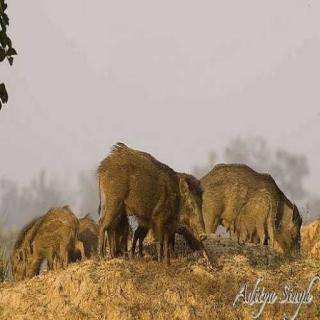Pig: (200, 146, 320, 270), (110, 127, 207, 271), (22, 184, 114, 287)
